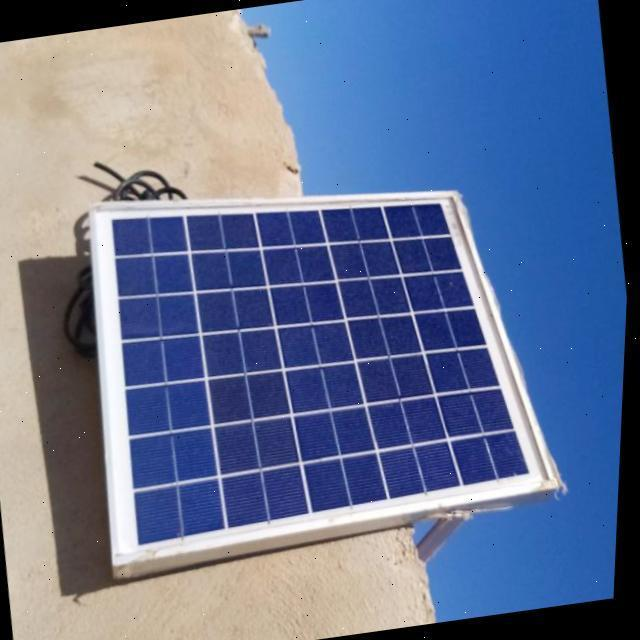Normal Solar Panel: (71, 143, 574, 561)
